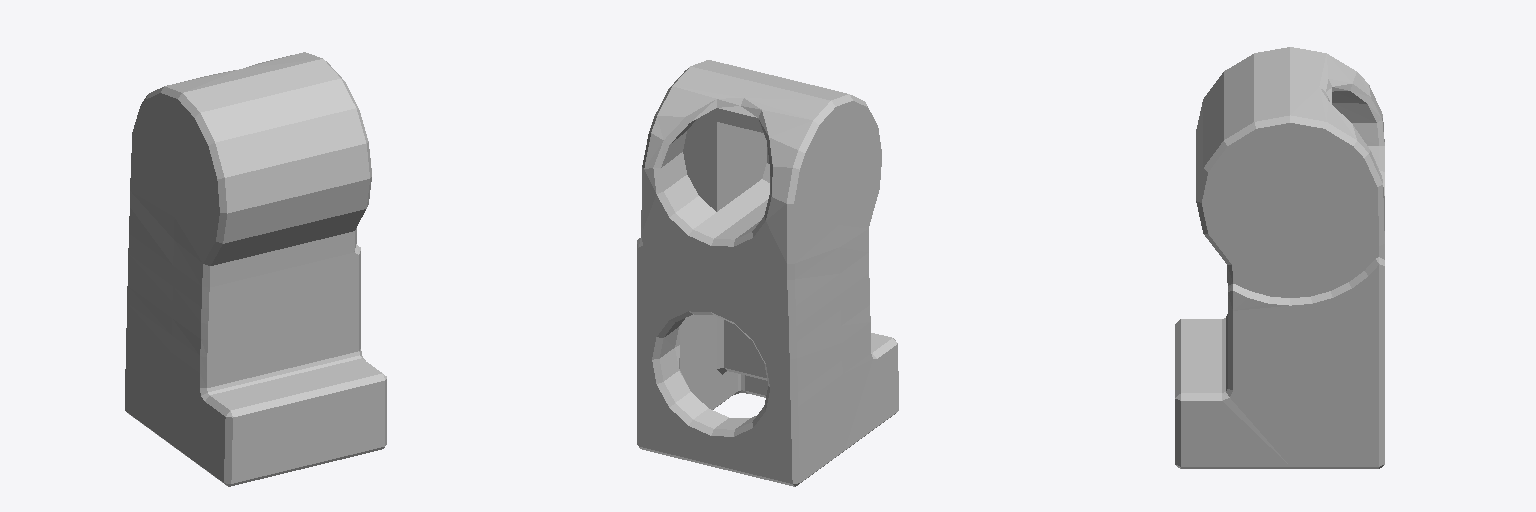
The model's file is anakinGhostLightSaberRightLeg.obj.
3 views of the same model, side by side, from view 1: azimuth 30°, elevation 25°; view 2: azimuth 150°, elevation 25°; view 3: azimuth 270°, elevation 25° (orthographic).
Visible parts, largest first — view 1: Mesh_0145_Mesh_0145Mesh; view 2: Mesh_0145_Mesh_0145Mesh; view 3: Mesh_0145_Mesh_0145Mesh.
Part boxes in pixels (bbox=[...]): Mesh_0145_Mesh_0145Mesh: bbox=[125, 52, 386, 486]; Mesh_0145_Mesh_0145Mesh: bbox=[637, 60, 898, 486]; Mesh_0145_Mesh_0145Mesh: bbox=[1175, 47, 1384, 468].
Size of the model in its own units: 0.0686 by 0.141 by 0.0762.